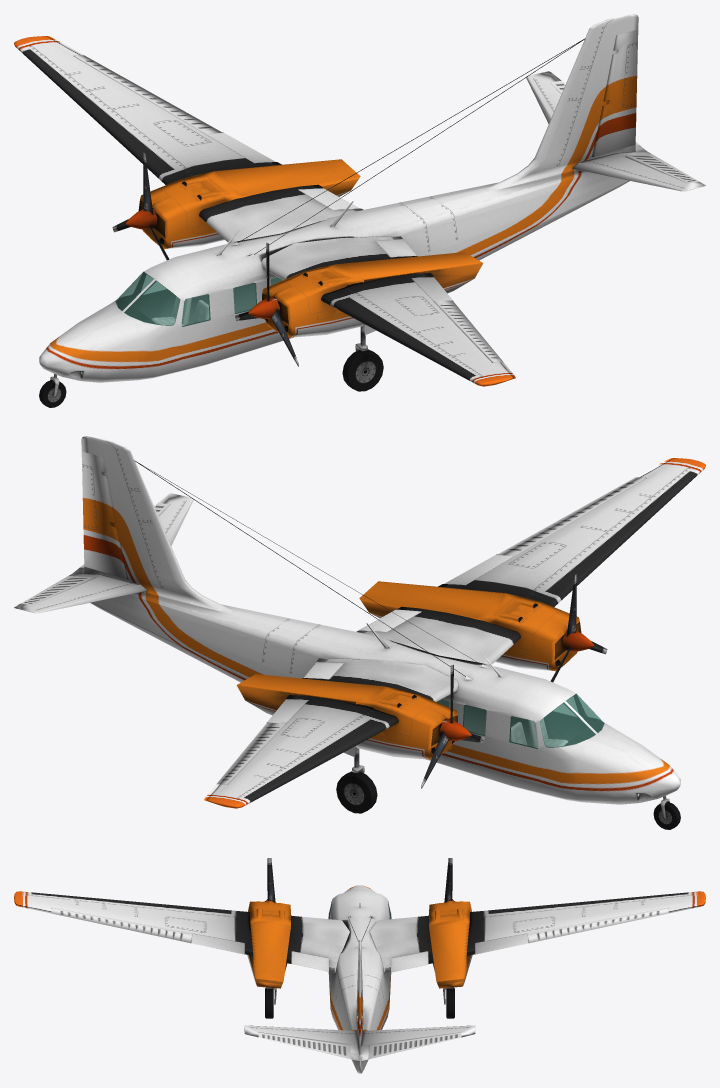
File: F3_TwinOtter.fbx
The picture shows the model from 3 angles, top to bottom: view 1: azimuth 30°, elevation 25°; view 2: azimuth 150°, elevation 25°; view 3: azimuth 270°, elevation 25°; orthographic projection. The views are drawn at different scales.
Parts seen in each view (by area): view 1: F3_TwinOtter_Ext, B_Wing, R_Wing_01, L_Tyre, L_Propeller, R_Propeller, L_Wing_01, LB_Wing, R_Wing_02, R_Wing_03; view 2: F3_TwinOtter_Ext, B_Wing, L_Wing_01, R_Tyre, R_Propeller, L_Propeller, R_Wing_01, L_Wing_02, RB_Wing, L_Wing_03; view 3: F3_TwinOtter_Ext, R_Wing_01, L_Wing_01, RB_Wing, LB_Wing, R_Wing_02, L_Wing_02, R_Wing_03, L_Wing_03, B_Wing.
Part boxes in pixels (bbox=[...]): F3_TwinOtter_Ext: bbox=[14, 14, 705, 386]; B_Wing: bbox=[592, 29, 638, 156]; R_Wing_01: bbox=[73, 55, 221, 134]; L_Tyre: bbox=[342, 349, 383, 391]; L_Propeller: bbox=[235, 242, 298, 366]; R_Propeller: bbox=[112, 152, 169, 260]; L_Wing_01: bbox=[434, 301, 503, 362]; LB_Wing: bbox=[625, 154, 698, 183]; R_Wing_02: bbox=[206, 132, 275, 163]; R_Wing_03: bbox=[298, 188, 359, 210]; F3_TwinOtter_Ext: bbox=[14, 436, 705, 808]; B_Wing: bbox=[81, 451, 127, 578]; L_Wing_01: bbox=[498, 477, 646, 556]; R_Tyre: bbox=[336, 771, 377, 813]; R_Propeller: bbox=[421, 664, 484, 788]; L_Propeller: bbox=[550, 574, 607, 682]; R_Wing_01: bbox=[216, 723, 285, 784]; L_Wing_02: bbox=[444, 554, 513, 585]; RB_Wing: bbox=[21, 576, 94, 605]; L_Wing_03: bbox=[359, 609, 421, 632]; F3_TwinOtter_Ext: bbox=[14, 885, 705, 1073]; R_Wing_01: bbox=[527, 908, 668, 943]; L_Wing_01: bbox=[51, 908, 192, 942]; RB_Wing: bbox=[368, 1032, 461, 1059]; LB_Wing: bbox=[258, 1032, 351, 1059]; R_Wing_02: bbox=[475, 933, 529, 954]; L_Wing_02: bbox=[190, 933, 244, 954]; R_Wing_03: bbox=[391, 951, 428, 972]; L_Wing_03: bbox=[291, 951, 328, 971]; B_Wing: bbox=[357, 960, 362, 1048].
Bounding box in the file's own units: 2459 × 974 × 3299.
